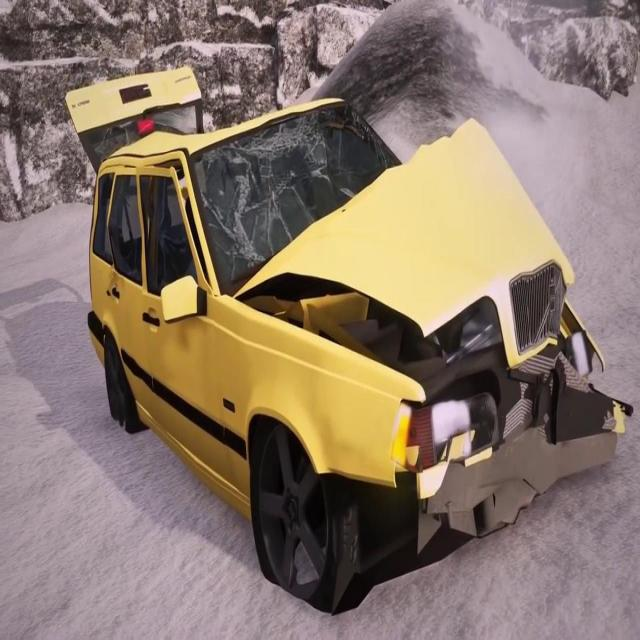accident: (62, 64, 625, 623)
